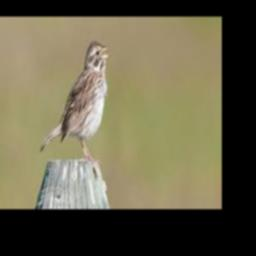Sparrow: (39, 41, 110, 160)
